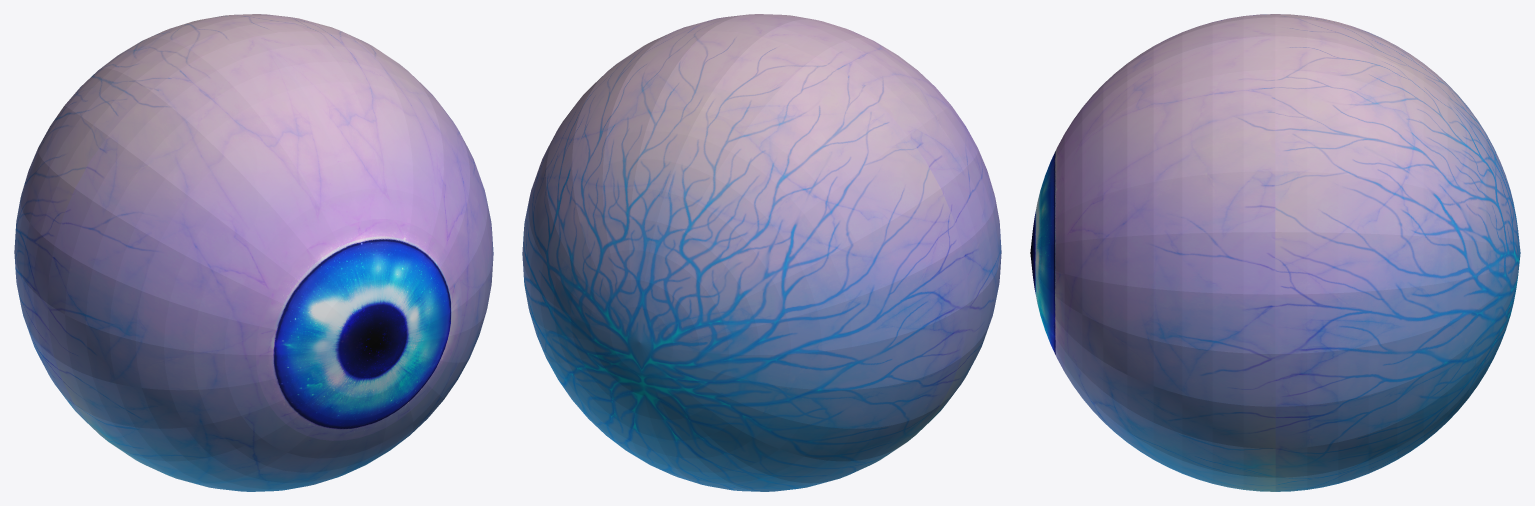
File: yanqiu.FBX
3 renders of one model, left to right at view 1: azimuth 30°, elevation 25°; view 2: azimuth 150°, elevation 25°; view 3: azimuth 270°, elevation 25°, orthographic.
Parts seen in each view (by area): view 1: yanqiu; view 2: yanqiu; view 3: yanqiu.
Boxes of the visible parts, x1,y1,x2,y2 form: yanqiu: (14,14,493,491); yanqiu: (522,14,1001,491); yanqiu: (1030,14,1520,491).
Bounding box in the file's own units: 3063 × 3063 × 3138.
1 material, 1 textured.
